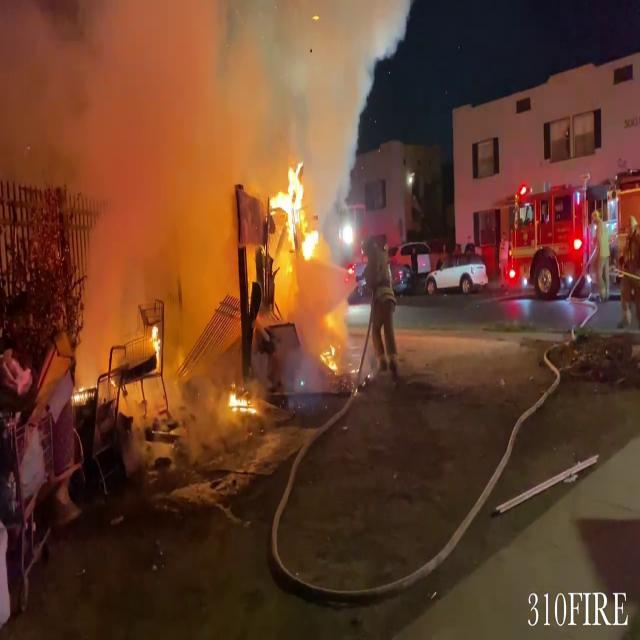Fire: (268, 160, 324, 268), (223, 381, 260, 418)
Smoke: (51, 1, 257, 420)
